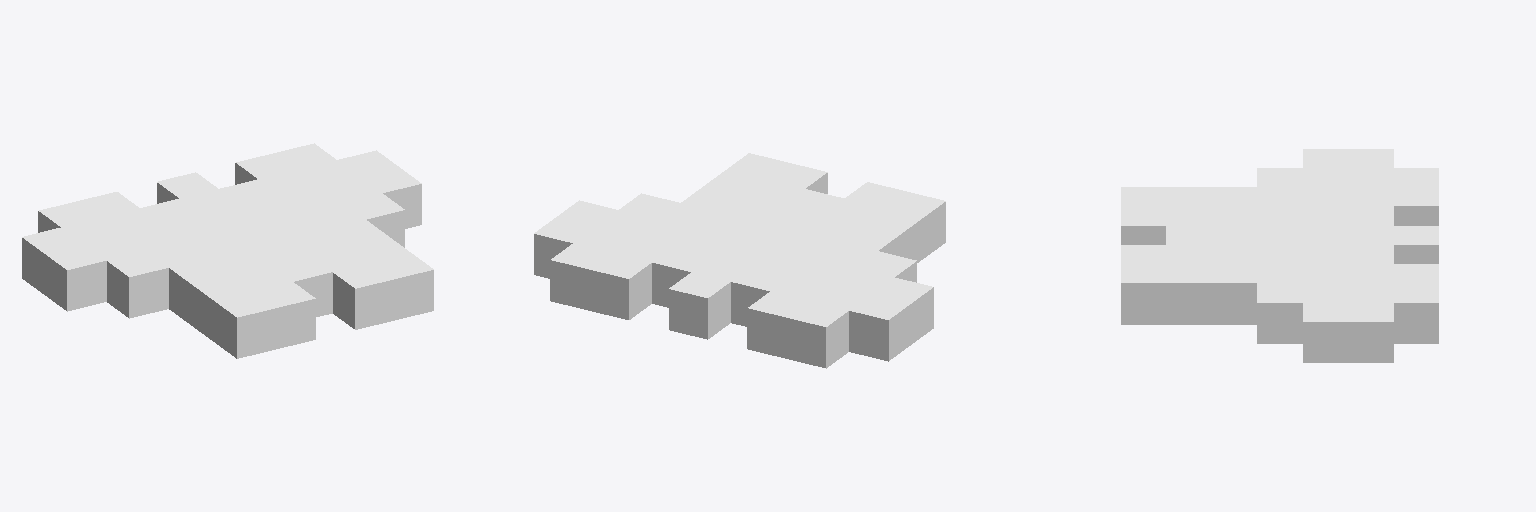
The model's file is butterfly_open.obj.
3 renders of one model, left to right at view 1: azimuth 30°, elevation 25°; view 2: azimuth 150°, elevation 25°; view 3: azimuth 270°, elevation 25°, orthographic.
Parts seen in each view (by area): view 1: butterfly_open; view 2: butterfly_open; view 3: butterfly_open.
Boxes of the visible parts, x1=… form: butterfly_open: x1=22, y1=143, x2=433, y2=358; butterfly_open: x1=534, y1=153, x2=945, y2=368; butterfly_open: x1=1121, y1=149, x2=1438, y2=362.
Size of the model in its own units: 9 by 1 by 7.